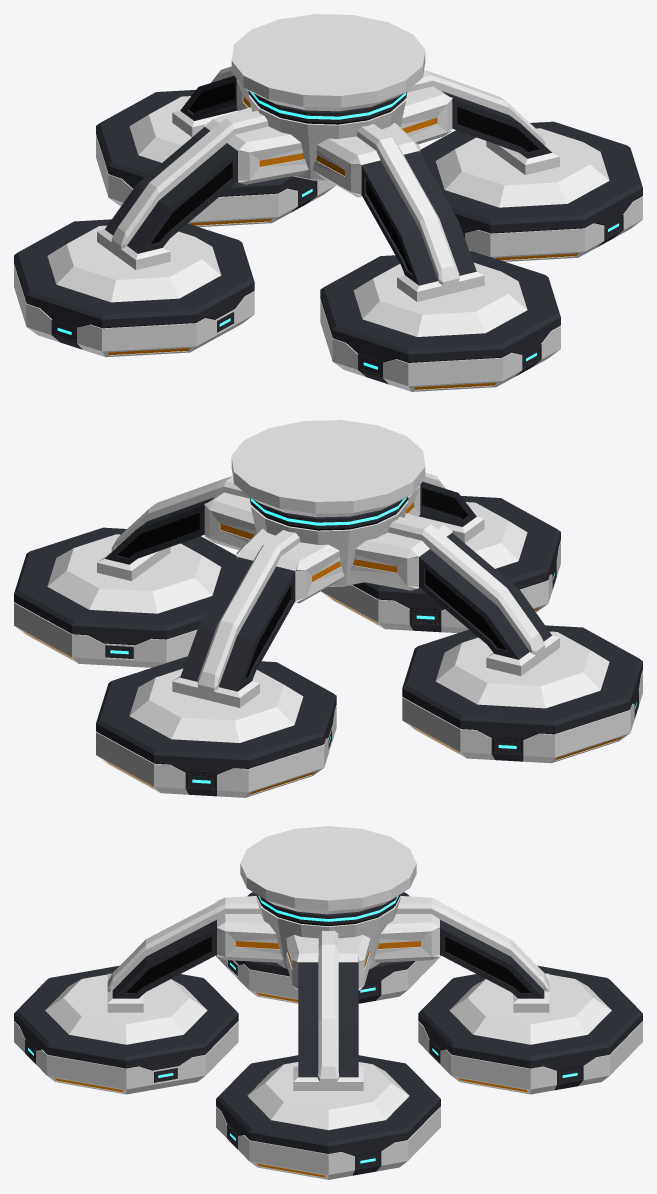
The model's file is SM_SurgicalLight_Ceiling.fbx.
3 renders of one model, top to bottom at view 1: azimuth 30°, elevation 25°; view 2: azimuth 150°, elevation 25°; view 3: azimuth 270°, elevation 25°, orthographic. The views are drawn at different scales.
Parts seen in each view (by area): view 1: SM_SurgicalLight_Ceiling; view 2: SM_SurgicalLight_Ceiling; view 3: SM_SurgicalLight_Ceiling.
Part boxes in pixels (box(x1,y1,x2,y2)): SM_SurgicalLight_Ceiling: box(14, 14, 642, 391); SM_SurgicalLight_Ceiling: box(14, 420, 642, 797); SM_SurgicalLight_Ceiling: box(14, 826, 642, 1179).
Bounding box in the file's own units: 112 × 37.73 × 112.
